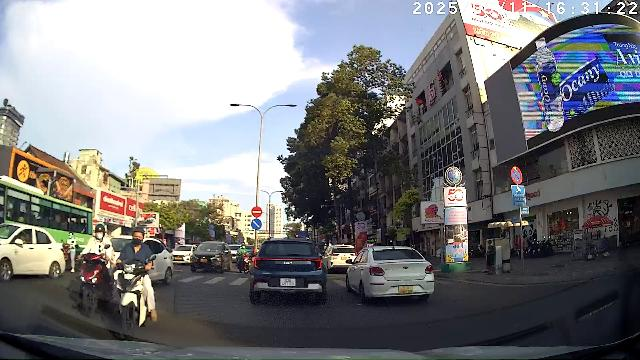102-cam-di-nguoc-chieu: (252, 207, 262, 218)
130-cam-dung-va-do-xe: (511, 166, 523, 184)
302a-huong-phai-di-vong-chuong-ngai-vat-1: (252, 219, 262, 229)
